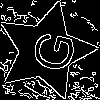G: (20, 26, 78, 76)
